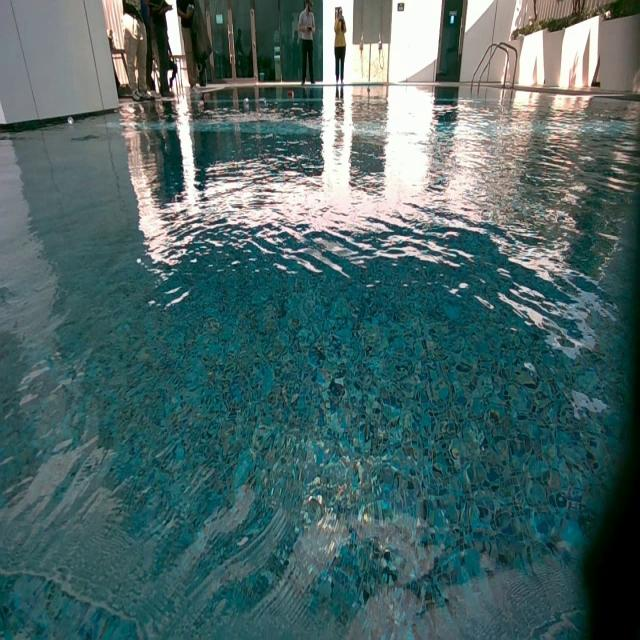Cans: (258, 98, 268, 104), (68, 119, 75, 127), (286, 91, 294, 98), (197, 100, 204, 106), (243, 98, 249, 105), (204, 94, 210, 99)
